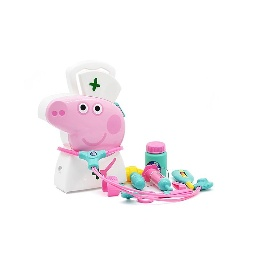Peppa: (45, 97, 126, 156)
